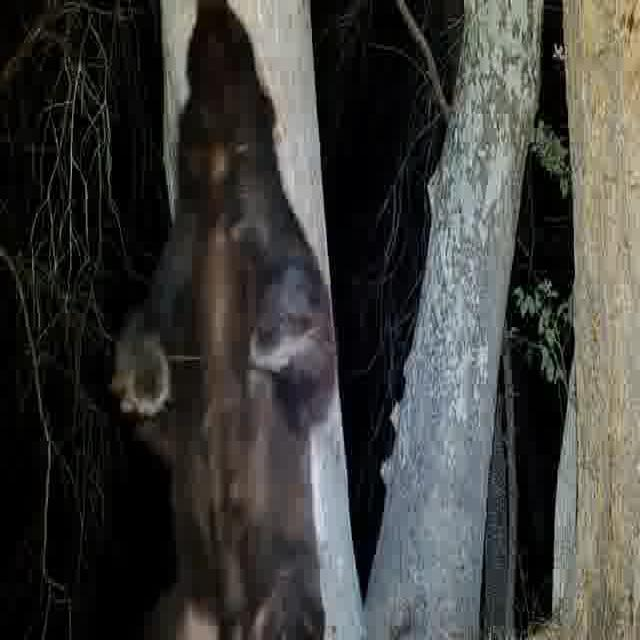bear face: (111, 0, 335, 640)
